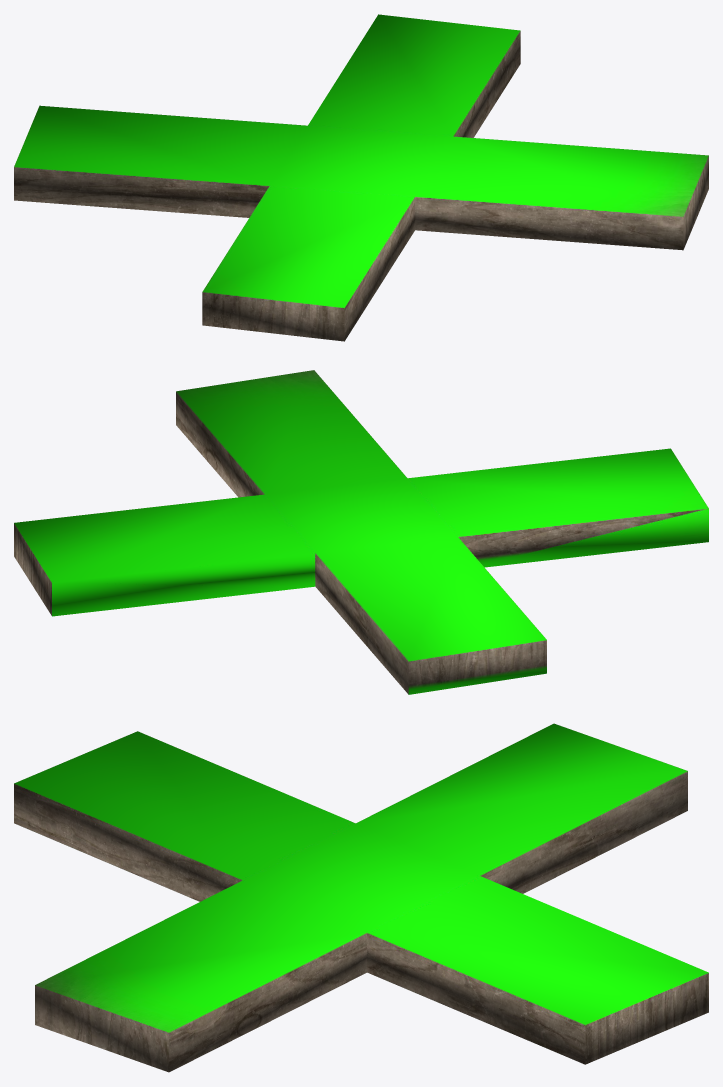
3 renders of one model, top to bottom at view 1: azimuth 30°, elevation 25°; view 2: azimuth 150°, elevation 25°; view 3: azimuth 270°, elevation 25°, orthographic. The views are drawn at different scales.
Parts seen in each view (by area): view 1: digging_spot_low; view 2: digging_spot_low; view 3: digging_spot_low.
Boxes of the visible parts, bbox=[...] form: digging_spot_low: bbox=[14, 14, 708, 341]; digging_spot_low: bbox=[14, 370, 708, 694]; digging_spot_low: bbox=[14, 723, 708, 1072].
Bounding box in the file's own units: 2 × 0.1202 × 1.9.
